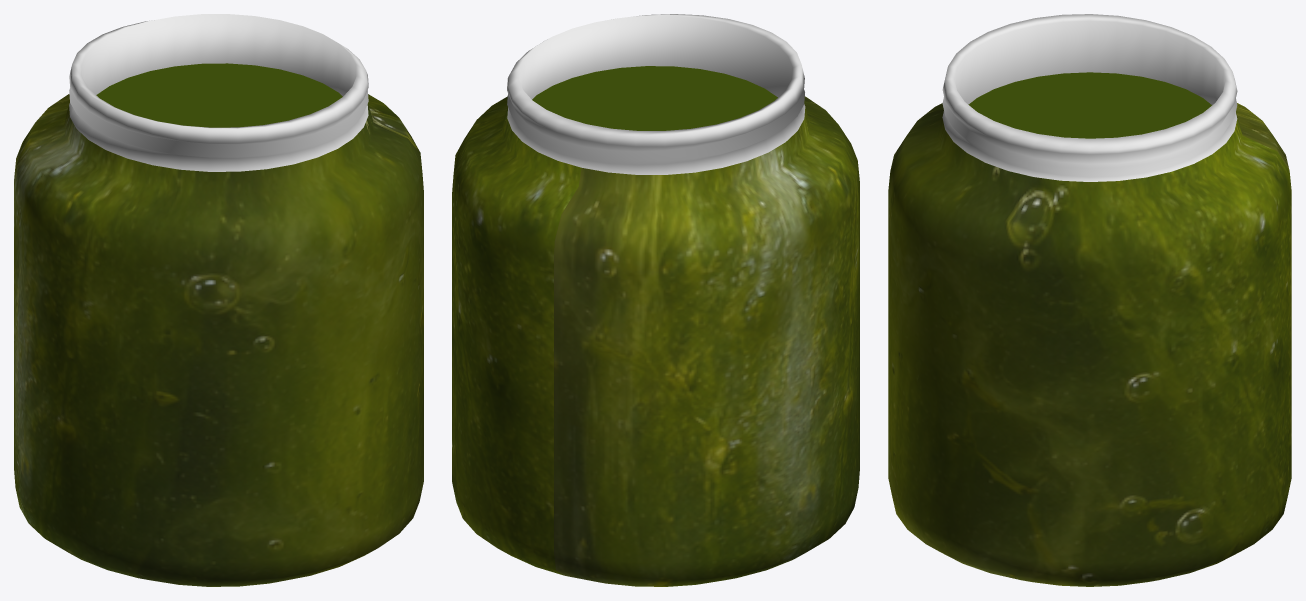
File: Jar.fbx
The picture shows the model from 3 angles, left to right: view 1: azimuth 30°, elevation 25°; view 2: azimuth 150°, elevation 25°; view 3: azimuth 270°, elevation 25°; orthographic projection.
Parts seen in each view (by area): view 1: Cylinder; view 2: Cylinder; view 3: Cylinder.
Part boxes in pixels (left/top/right/bottom): Cylinder: left=14, top=14, right=423, bottom=586; Cylinder: left=452, top=14, right=859, bottom=586; Cylinder: left=888, top=14, right=1291, bottom=586.
Bounding box in the file's own units: 376 × 461 × 376.
